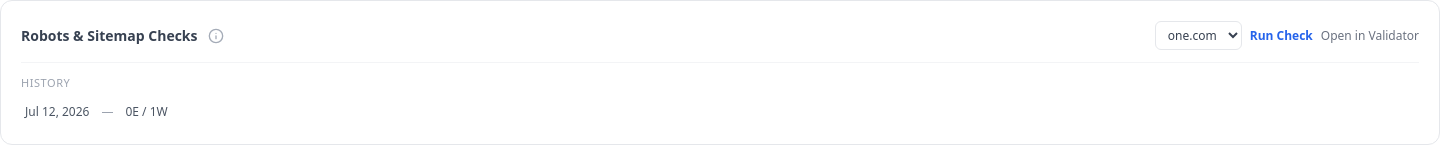
RobotsCheckCard › failed domain switch clears the previous domain history, never shows cross-domain rows
The width and height of the screenshot is (1440, 162).
Expected: the button "Jul 12, 2026 — 0E / 1W" is shown, [21,100,1419,124]
Select "two.com" in the dropdown at (1198, 36), box [1155,21,1242,50]
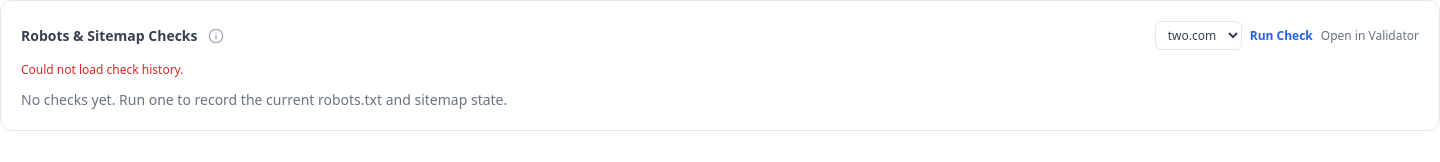
Expected: the text "Could not load check history." is shown, [21,61,184,78]
Expected: the button "Jul" is gone
